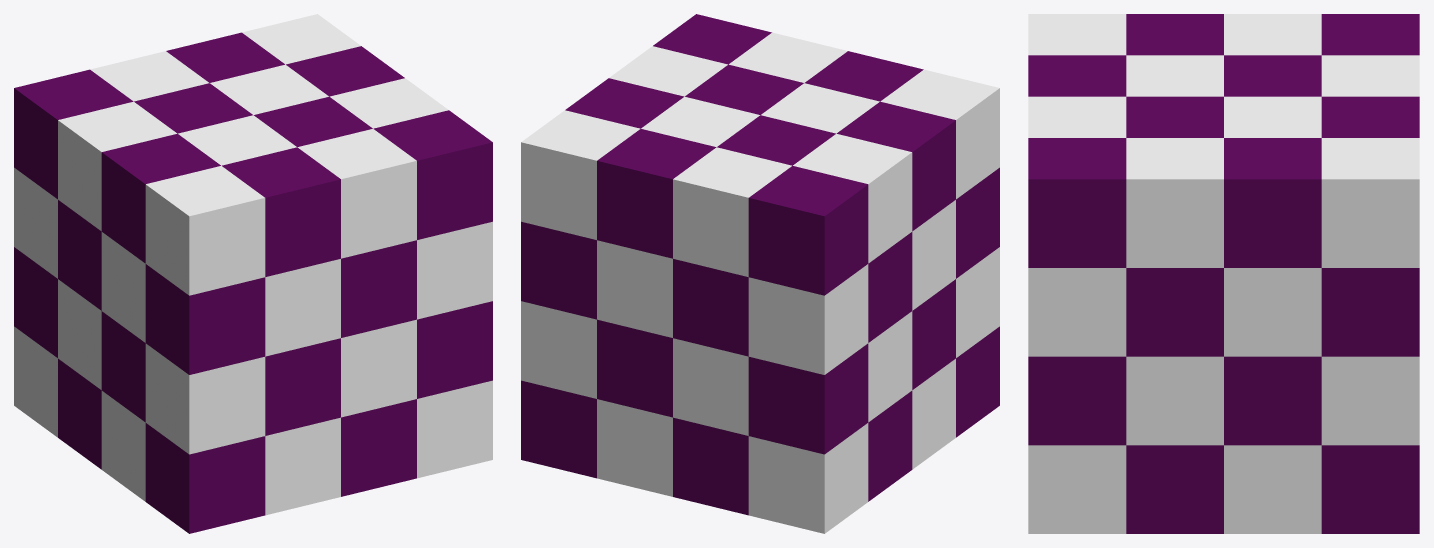
The model's file is cube-finish.glb.
3 views of the same model, side by side, from view 1: azimuth 30°, elevation 25°; view 2: azimuth 150°, elevation 25°; view 3: azimuth 270°, elevation 25° (orthographic). The views are drawn at different scales.
Parts seen in each view (by area): view 1: cube-finish; view 2: cube-finish; view 3: cube-finish.
Part boxes in pixels (x1,y1,x2,y2): cube-finish: (14,14,492,533); cube-finish: (521,14,999,533); cube-finish: (1028,14,1419,533).
Size of the model in its own units: 1 by 1 by 1.
